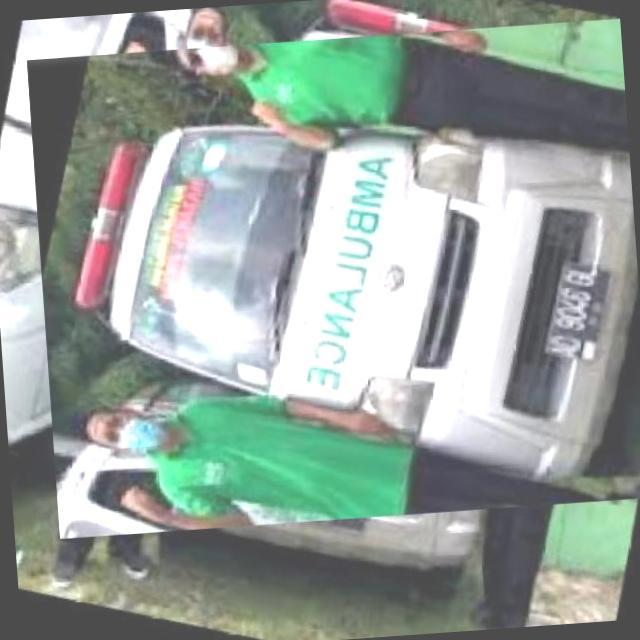emergency-vehicle: (61, 0, 640, 572)
